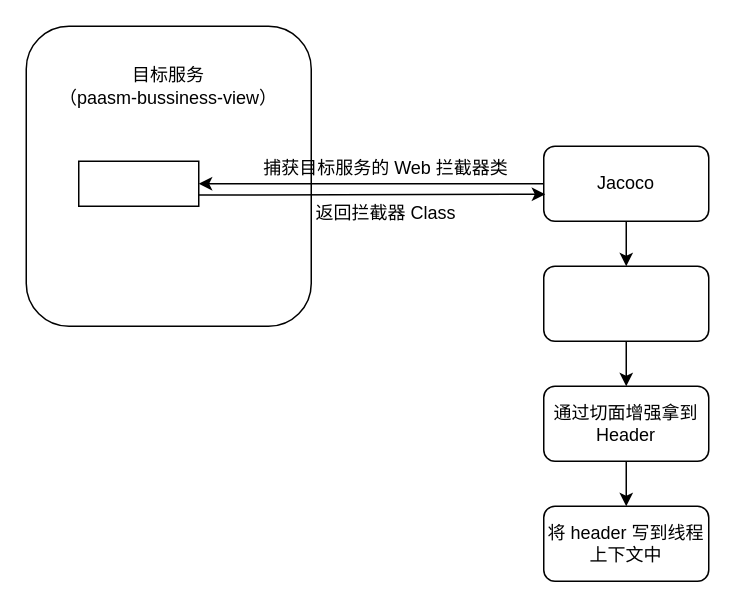
Image size: 735x608. Some labels were removed from this diagram. The centre of each missing label's shape, as x and y in pixels:
"xxxFilter" belongs at point 138,183.
"拿到拦截器的 doFilter 方法，拿到HttpServletRequest" belongs at point 625,303.
